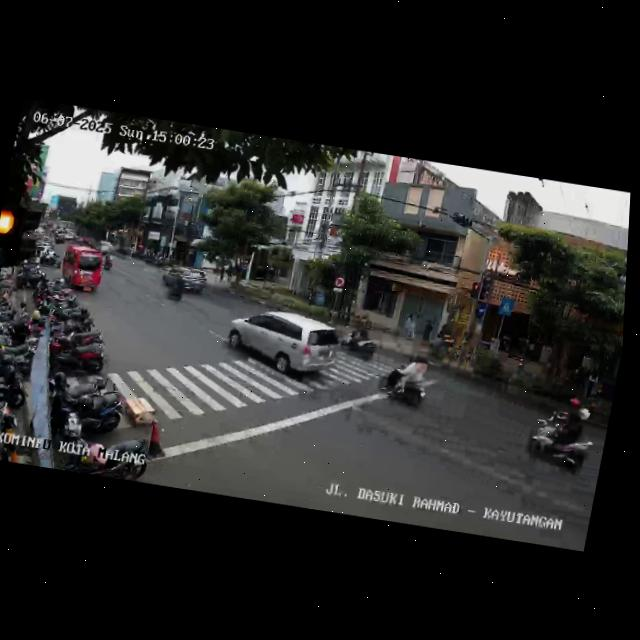car: (220, 303, 346, 389), (56, 243, 108, 297), (165, 265, 209, 297)
motorcycle: (524, 402, 598, 475), (377, 354, 435, 414), (338, 320, 383, 366), (164, 272, 189, 306), (101, 251, 117, 273)
